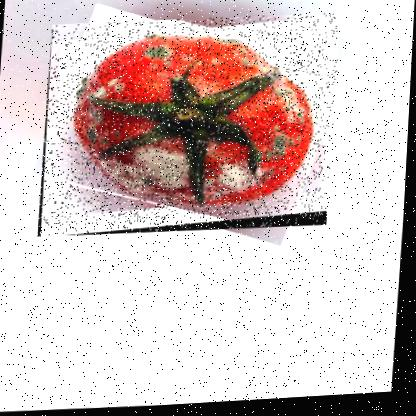tomato_rotten: (38, 12, 341, 243)
